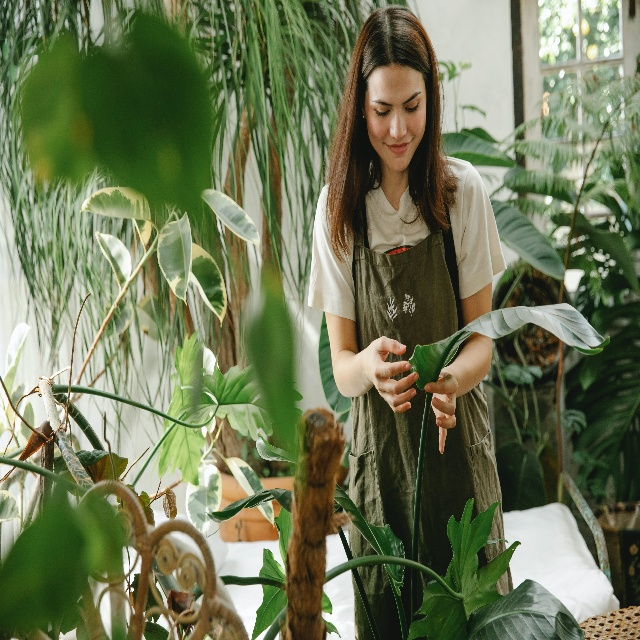Sin_guantes: (364, 334, 420, 414), (425, 367, 459, 454)
